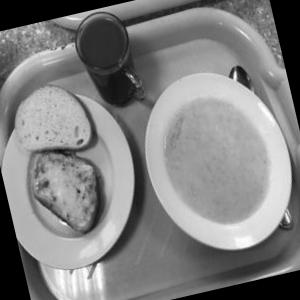bread: (0, 73, 116, 171)
cheese_sandwich: (18, 145, 116, 240)
coffee: (65, 1, 158, 116)
porridge: (139, 73, 298, 252)
